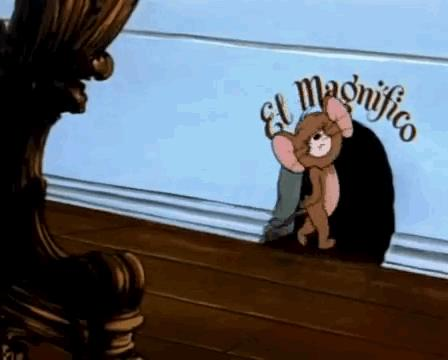jerry: (270, 95, 354, 251)
